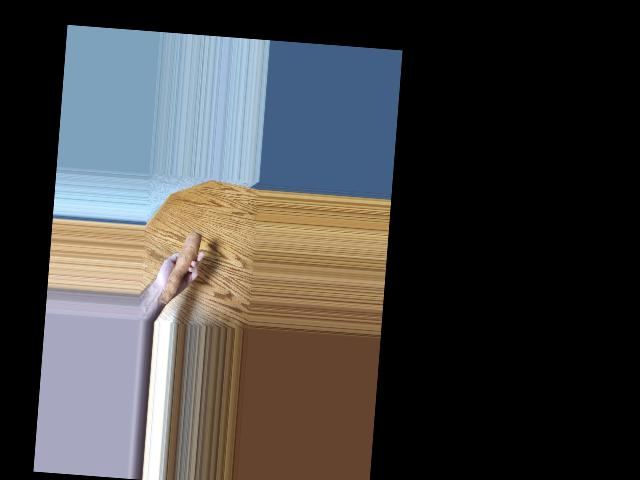sweet_potato: (159, 231, 196, 306)
